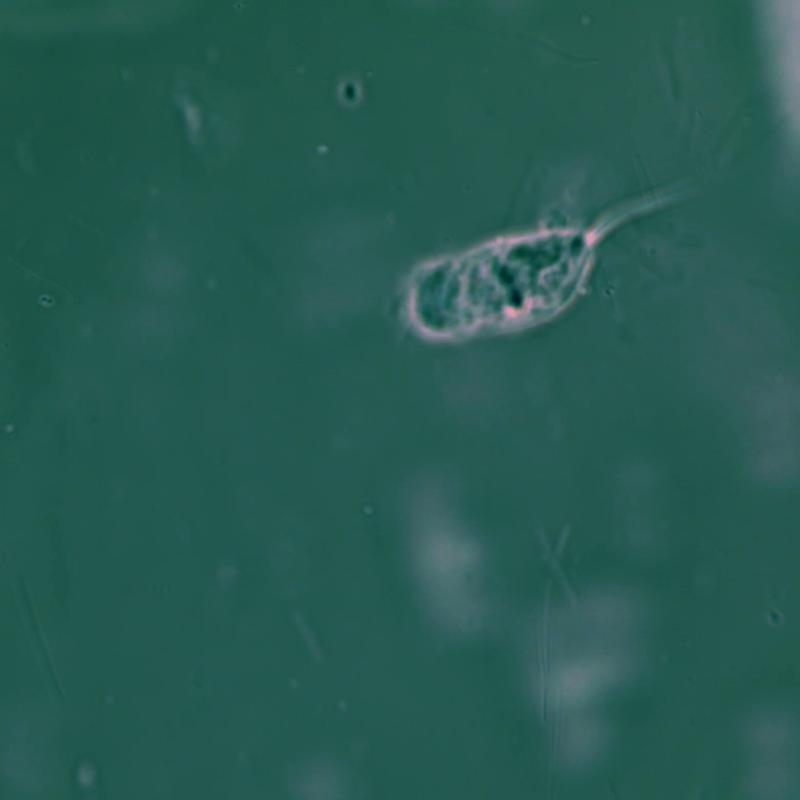depth:40: (359, 165, 756, 348)
